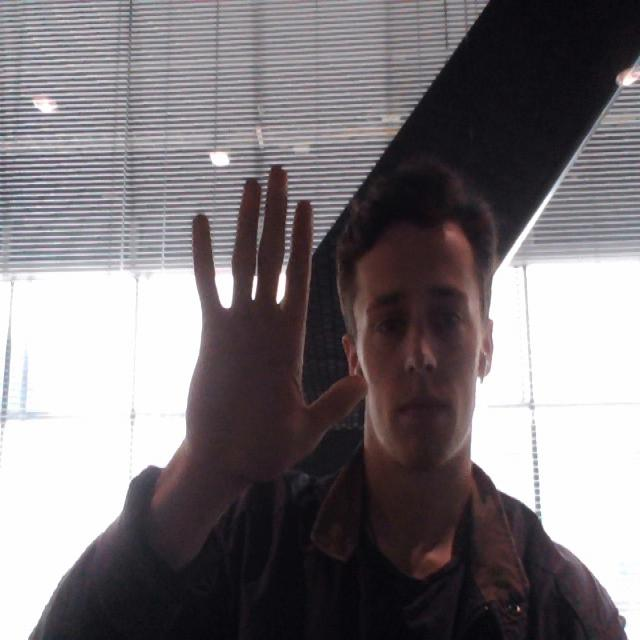backward: (134, 148, 372, 488)
